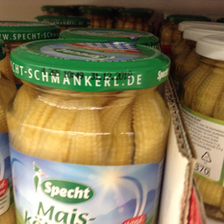corn: (4, 37, 170, 224)
